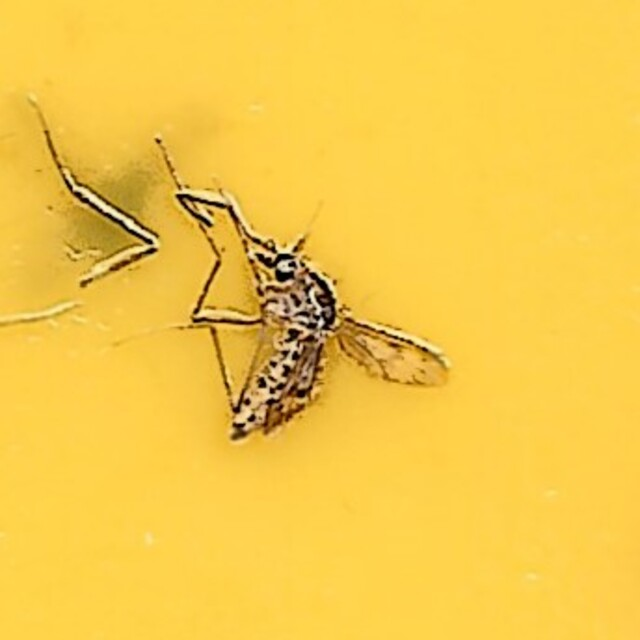Nematocera: (186, 187, 454, 453)
